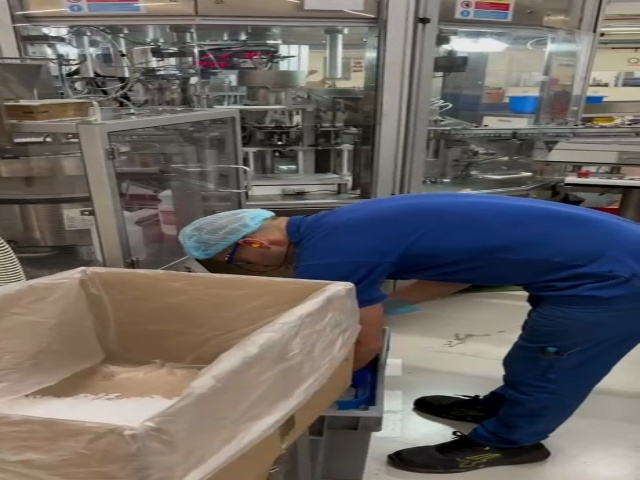Earplug: (240, 238, 273, 252)
Hairnet: (182, 207, 276, 257)
No_Helmet: (180, 209, 280, 264)
No_Vest: (293, 194, 640, 297)
Person: (172, 202, 640, 475)
Safety_Goggles: (214, 242, 244, 267)
